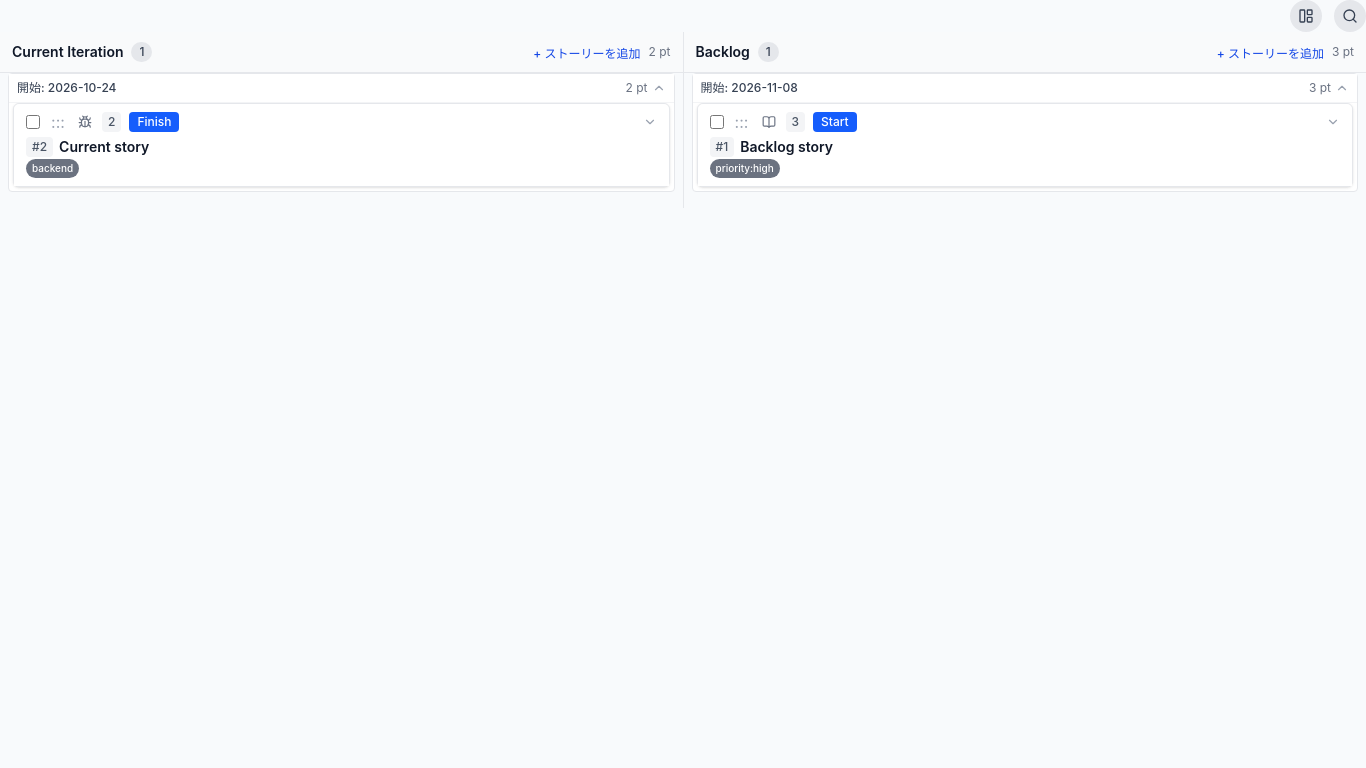
it: StoryMultiPanelScreen UI contracts › does not auto-select a story after inline create
Expected: the text "Backlog story" is shown, [740, 138, 833, 155]
Click the button "+ ストーリーを追加" in the row of "Current Iteration". click: click(587, 54)
box: [533, 46, 640, 62]
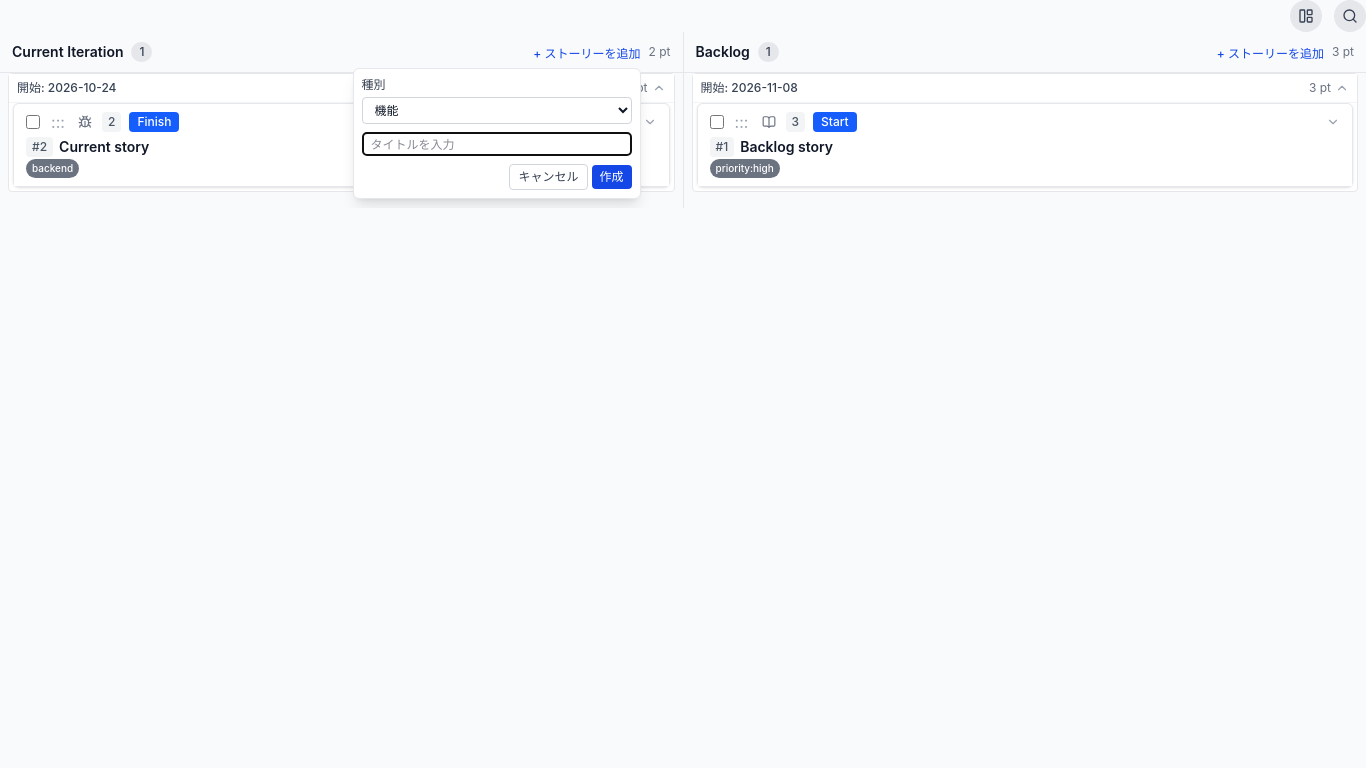
Type "Created story" into the text box with placeholder "タイトルを入力". click: (496, 144)
box: [362, 132, 632, 156]
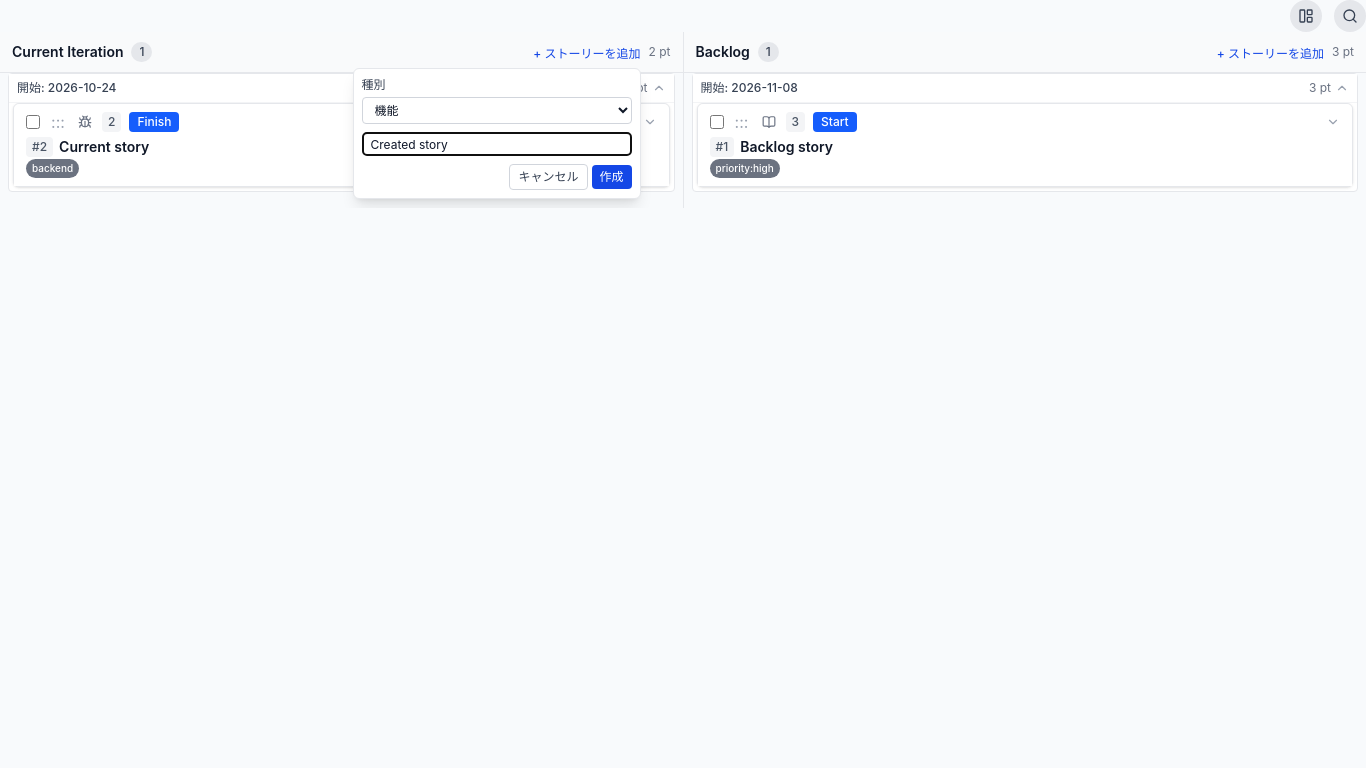
Click the button "作成". click: click(612, 177)
box: [592, 165, 632, 189]
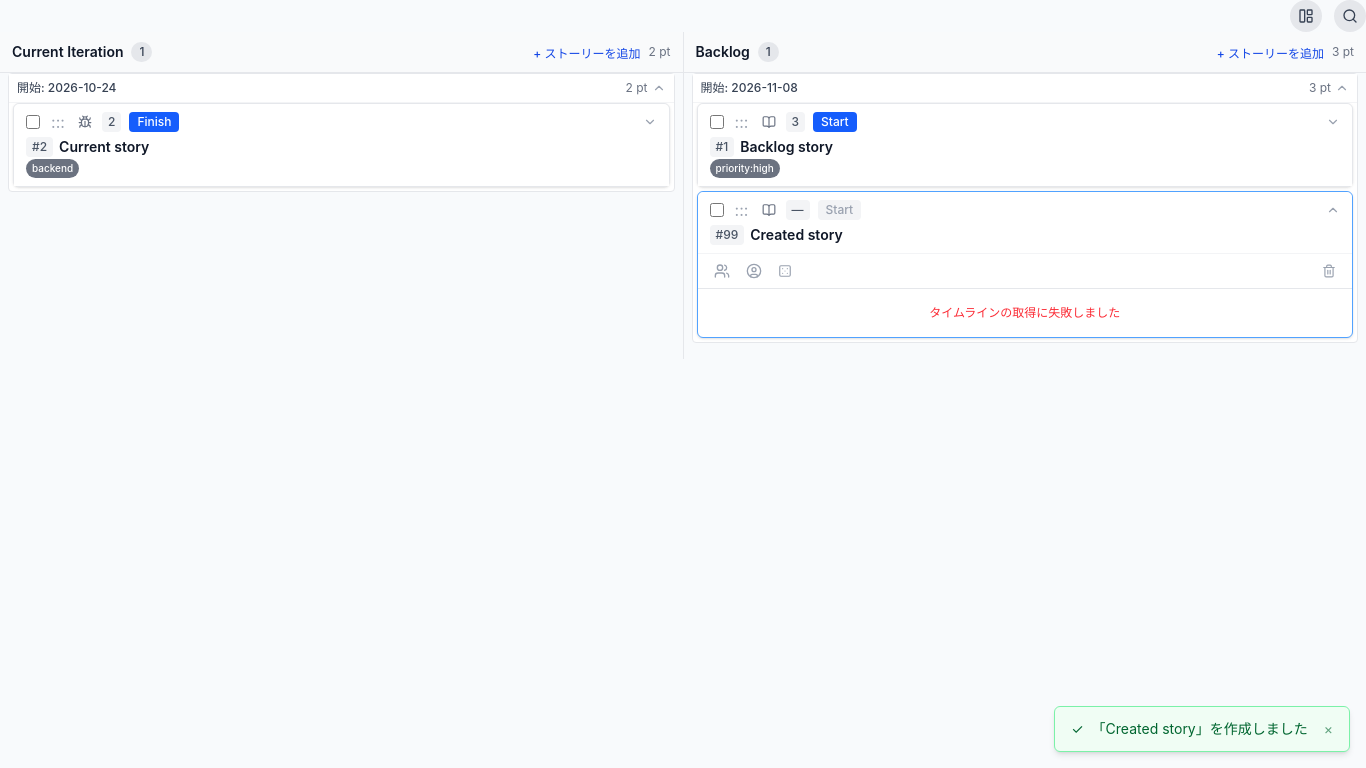
Expected: the text "Created story" is shown, [750, 226, 843, 243]
